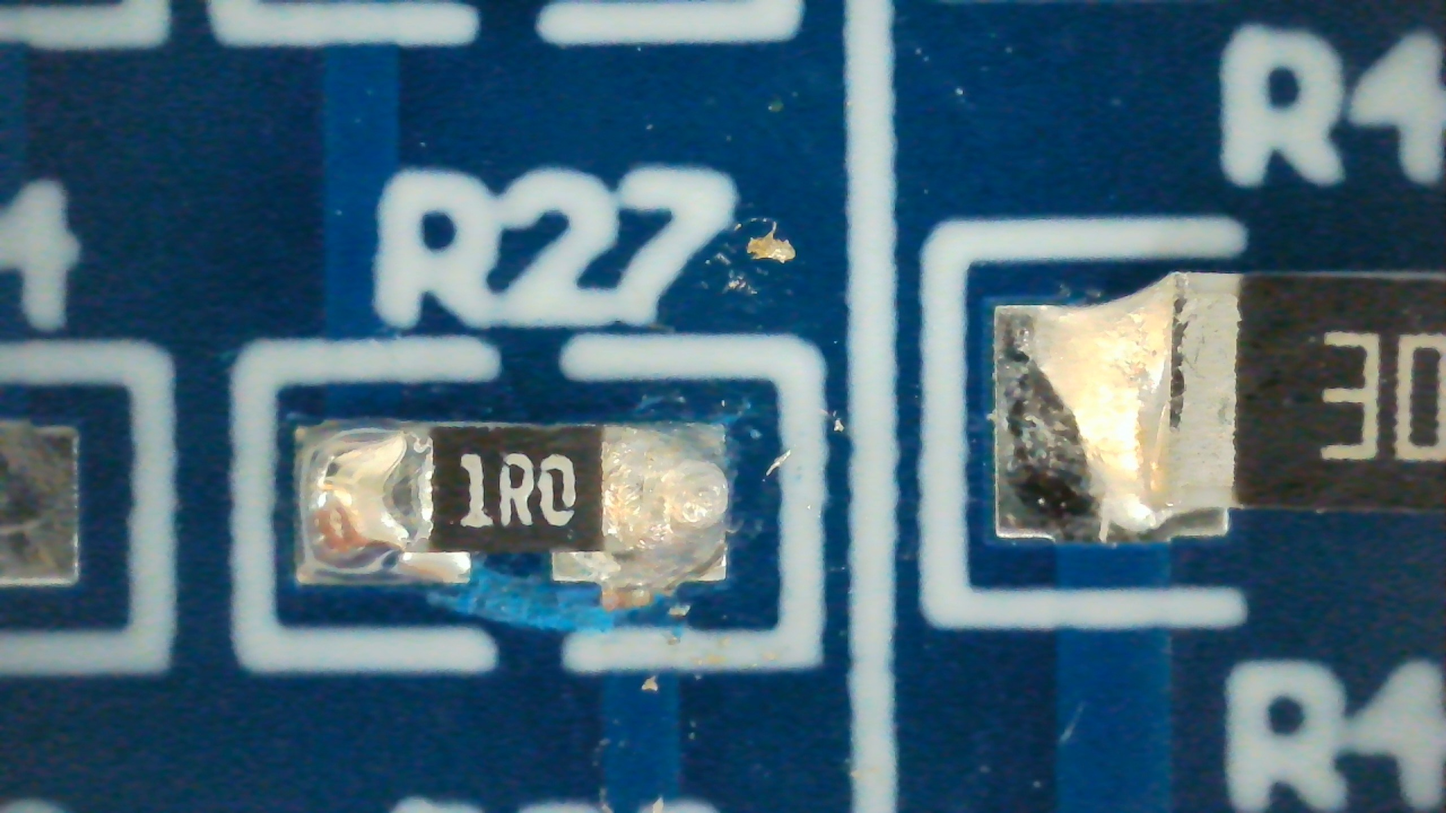OK: (297, 419, 726, 607)
